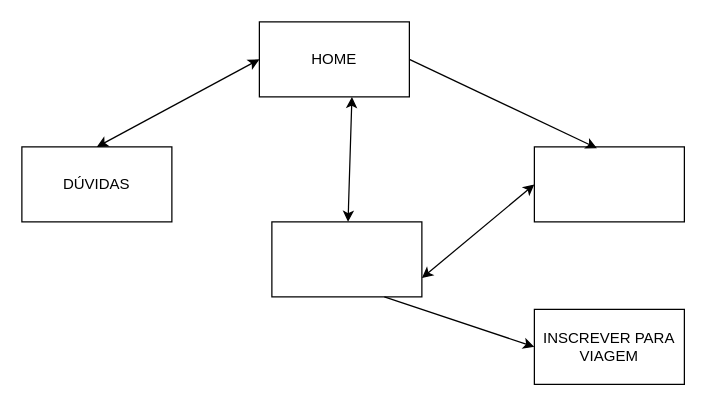
Image size: 706x406. Some labels were removed from this diagram. Here are the shapes that lost their labels. From the top down, the centre of each, then its label:
At (x=608, y=184): "VIAGENS".
At (x=346, y=259): "CADASTRAR USUARIO".
